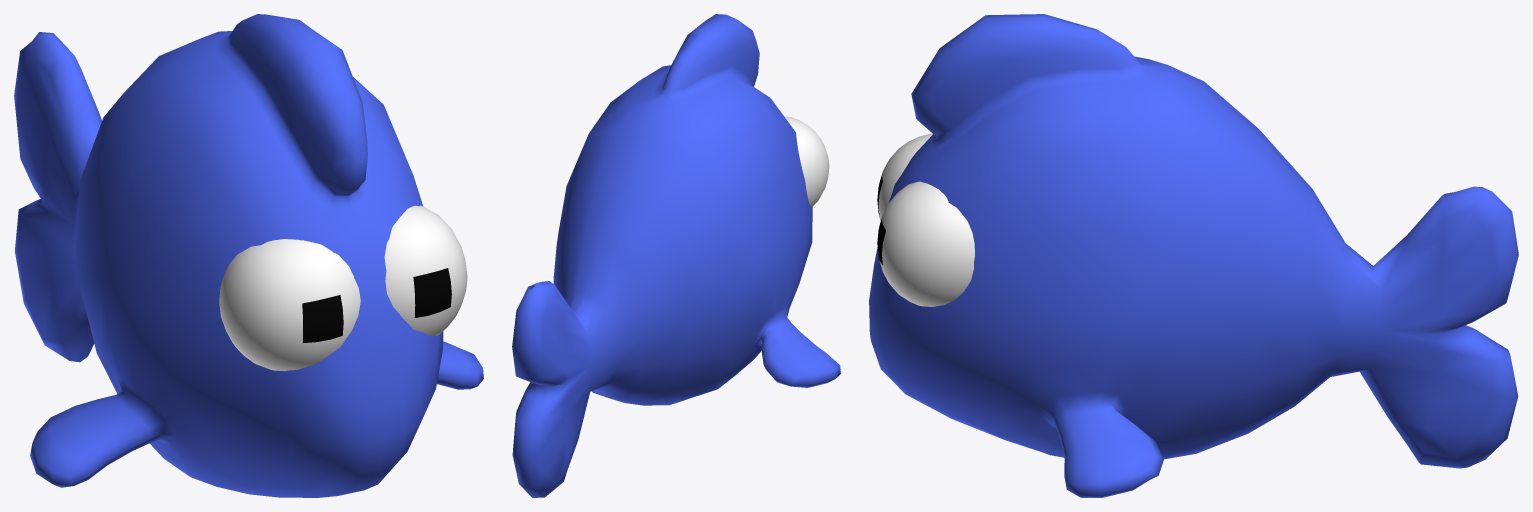
File: CC_Fish.FBX
3 views of the same model, side by side, from view 1: azimuth 30°, elevation 25°; view 2: azimuth 150°, elevation 25°; view 3: azimuth 270°, elevation 25° (orthographic). The views are drawn at different scales.
Visible parts, largest first — view 1: Box002, Box001; view 2: Box002, Box001; view 3: Box002, Box001.
Boxes of the visible parts, left/top/right/bottom form: Box002: left=14, top=14, right=483, bottom=497; Box001: left=219, top=205, right=467, bottom=371; Box002: left=512, top=14, right=840, bottom=497; Box001: left=784, top=116, right=829, bottom=207; Box002: left=869, top=14, right=1518, bottom=497; Box001: left=877, top=133, right=974, bottom=306.
Bounding box in the file's own units: 29 × 41.17 × 31.55.
